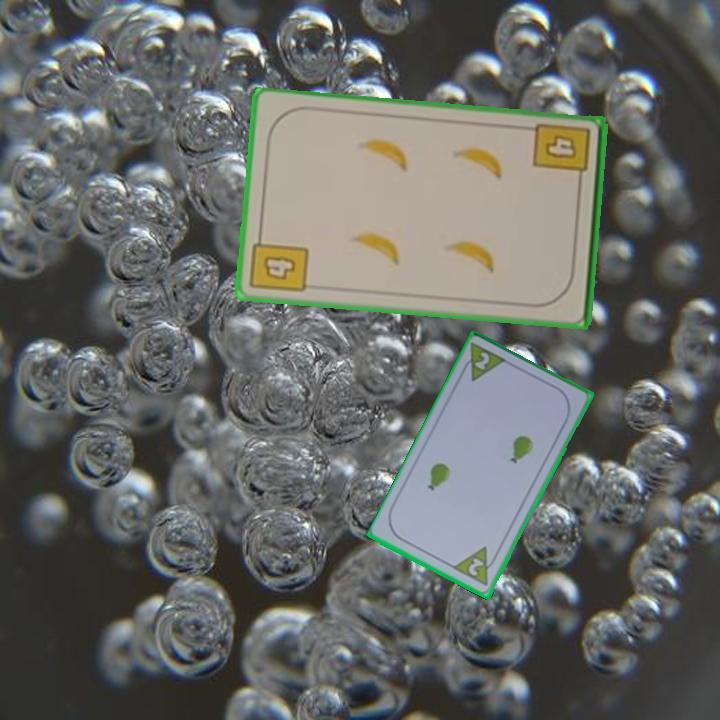2p: (456, 340, 510, 385), (450, 543, 501, 590)
4b: (247, 228, 311, 296), (530, 120, 593, 189)
